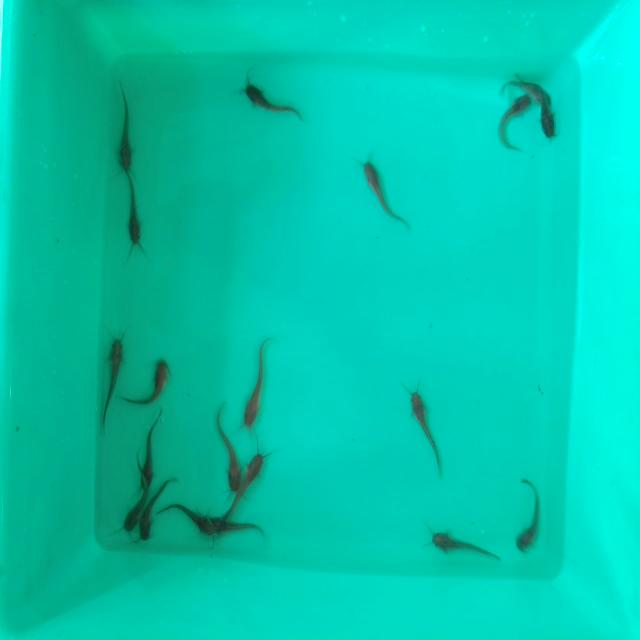lele: (358, 160, 409, 230), (411, 387, 442, 471), (243, 340, 269, 432), (100, 332, 127, 420), (498, 94, 534, 156), (431, 529, 500, 561), (241, 80, 303, 115), (158, 501, 215, 538), (515, 476, 542, 554), (217, 409, 241, 494), (115, 78, 137, 170), (130, 356, 170, 406), (122, 175, 146, 256), (139, 412, 161, 490), (239, 446, 266, 509), (502, 72, 556, 100), (213, 513, 267, 540), (539, 98, 562, 149), (121, 488, 144, 535), (140, 492, 160, 544)
